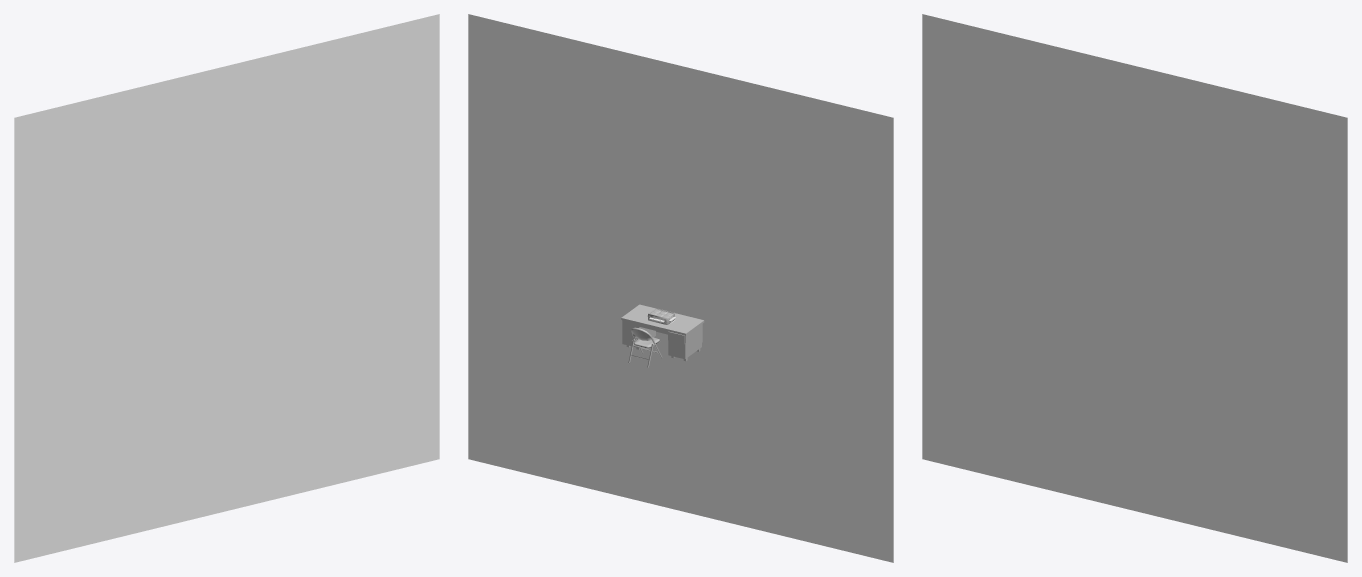
File: MotionControlsTutorialScreen.fbx
3 renders of one model, left to right at view 1: azimuth 30°, elevation 25°; view 2: azimuth 150°, elevation 25°; view 3: azimuth 330°, elevation 25°, orthographic.
Parts seen in each view (by area): view 1: Ping; view 2: Ping, Entire; view 3: Ping.
Part boxes in pixels (x1=…): Ping: x1=14, y1=14, x2=439, y2=562; Ping: x1=468, y1=14, x2=893, y2=562; Entire: x1=621, y1=304, x2=704, y2=361; Ping: x1=922, y1=14, x2=1347, y2=562.
Size of the model in its own units: 11.15 by 11.15 by 1.92.
